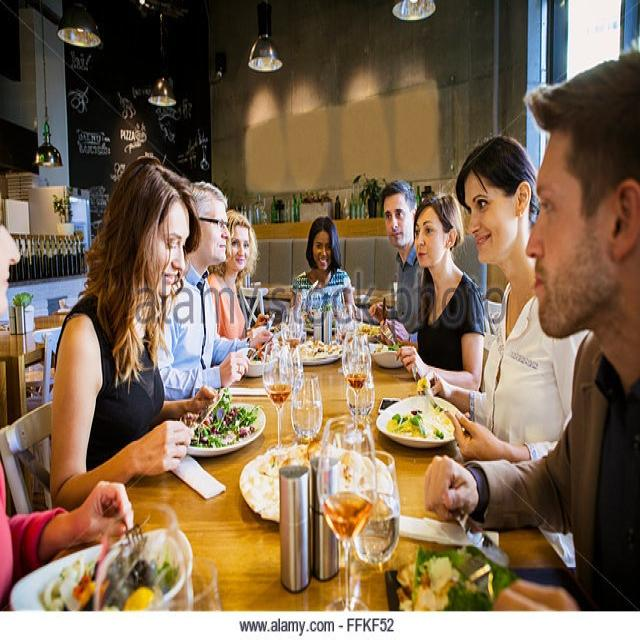body: (421, 46, 640, 613), (415, 130, 589, 577), (49, 152, 222, 512), (0, 210, 137, 610), (152, 178, 276, 404), (393, 188, 488, 394), (367, 179, 425, 334), (287, 213, 358, 331), (288, 215, 359, 328)
